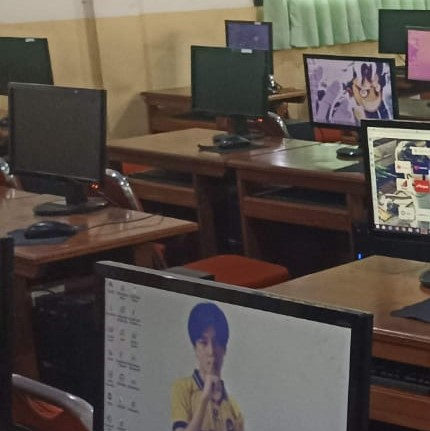monitor: (94, 259, 373, 425), (8, 82, 109, 216), (357, 119, 430, 261), (302, 54, 400, 132), (190, 45, 271, 119), (0, 37, 54, 97), (224, 20, 274, 77), (378, 9, 430, 55), (405, 26, 430, 88)
